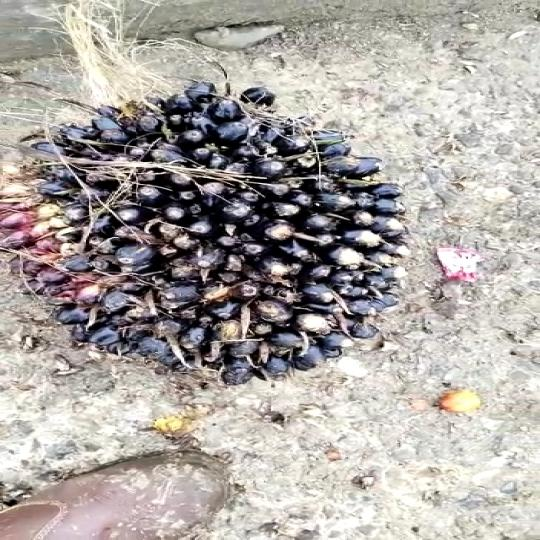mentah: (0, 86, 422, 390)
